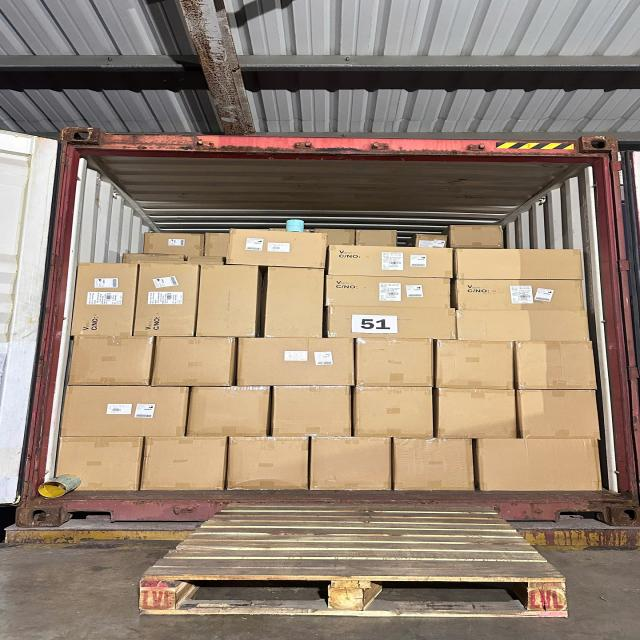Carton: (476, 436, 606, 492), (61, 386, 188, 436), (235, 337, 354, 388), (390, 435, 478, 493), (349, 385, 438, 439), (269, 384, 357, 438), (326, 306, 456, 342), (308, 438, 394, 492), (228, 437, 312, 491), (145, 437, 226, 491), (352, 336, 436, 388), (434, 387, 518, 439), (511, 340, 597, 390), (515, 389, 601, 439), (435, 338, 516, 391), (456, 309, 590, 341), (74, 262, 131, 336), (152, 335, 233, 387), (58, 437, 137, 490), (189, 385, 271, 436), (266, 264, 323, 337), (137, 263, 194, 336), (456, 279, 586, 311), (326, 275, 448, 308), (229, 228, 327, 269), (328, 245, 452, 277), (200, 265, 255, 337), (455, 249, 582, 280), (74, 336, 147, 386)
